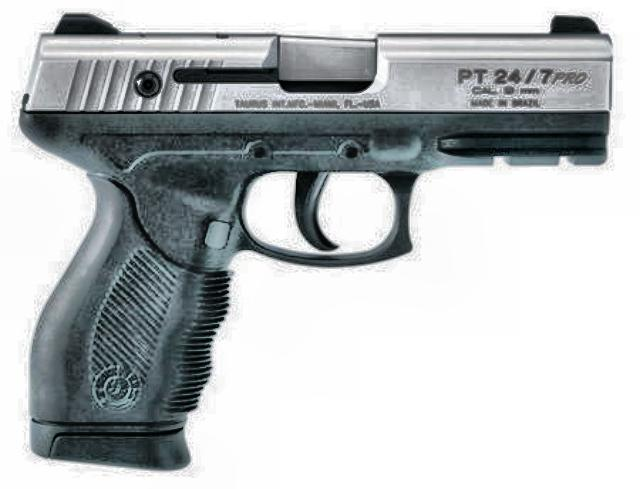pistol: (22, 11, 610, 454)
